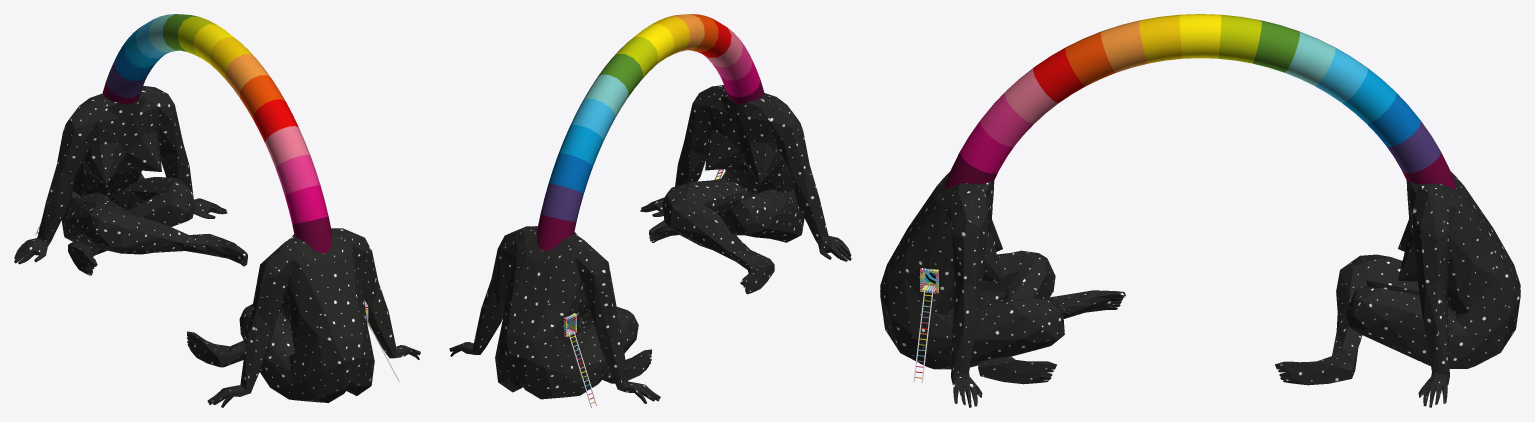
File: SM_Escultura_Rainbow.fbx
3 renders of one model, left to right at view 1: azimuth 30°, elevation 25°; view 2: azimuth 150°, elevation 25°; view 3: azimuth 270°, elevation 25°, orthographic. The views are drawn at different scales.
Parts seen in each view (by area): view 1: BODY_01, BODY_02, RAINBOW; view 2: BODY_02, BODY_01, RAINBOW; view 3: BODY_02, BODY_01, RAINBOW.
Boxes of the visible parts, x1=… form: BODY_01: x1=14, y1=86, x2=247, y2=275; BODY_02: x1=187, y1=228, x2=420, y2=407; RAINBOW: x1=102, y1=14, x2=332, y2=253; BODY_02: x1=640, y1=85, x2=851, y2=294; BODY_01: x1=449, y1=226, x2=660, y2=407; RAINBOW: x1=537, y1=14, x2=764, y2=251; BODY_02: x1=880, y1=171, x2=1125, y2=407; BODY_01: x1=1275, y1=171, x2=1520, y2=407; RAINBOW: x1=944, y1=14, x2=1456, y2=188.
Size of the model in its own units: 3252 by 4079 by 7155.
